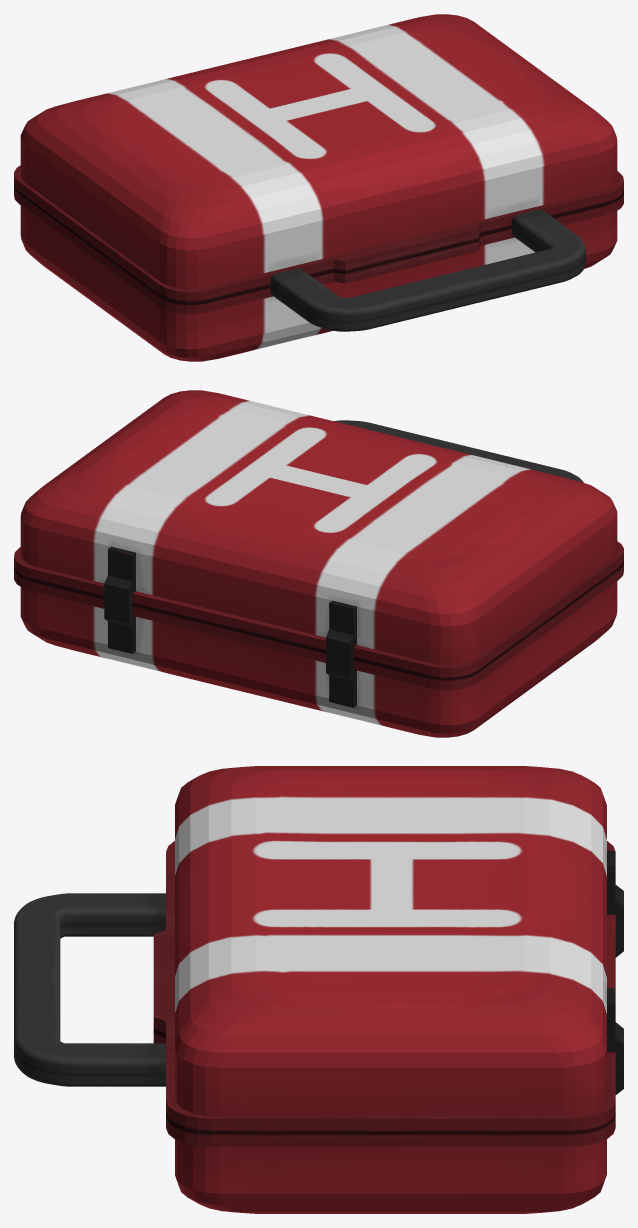
Rendered from MedicBag.fbx.
The picture shows the model from 3 angles, top to bottom: view 1: azimuth 30°, elevation 25°; view 2: azimuth 150°, elevation 25°; view 3: azimuth 270°, elevation 25°; orthographic projection. The views are drawn at different scales.
Parts seen in each view (by area): view 1: MedicBag; view 2: MedicBag; view 3: MedicBag.
Boxes of the visible parts, <box> form: MedicBag: <box>14,14,623,361</box>; MedicBag: <box>14,390,623,737</box>; MedicBag: <box>14,766,623,1213</box>.
Bounding box in the file's own units: 37.09 × 12.77 × 33.47.
Materials: 1 (1 with a texture image).
